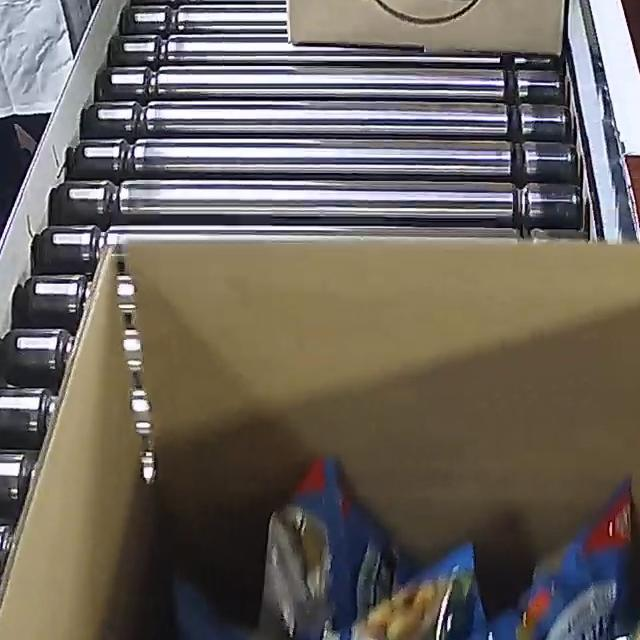paprika: (150, 458, 640, 640)
